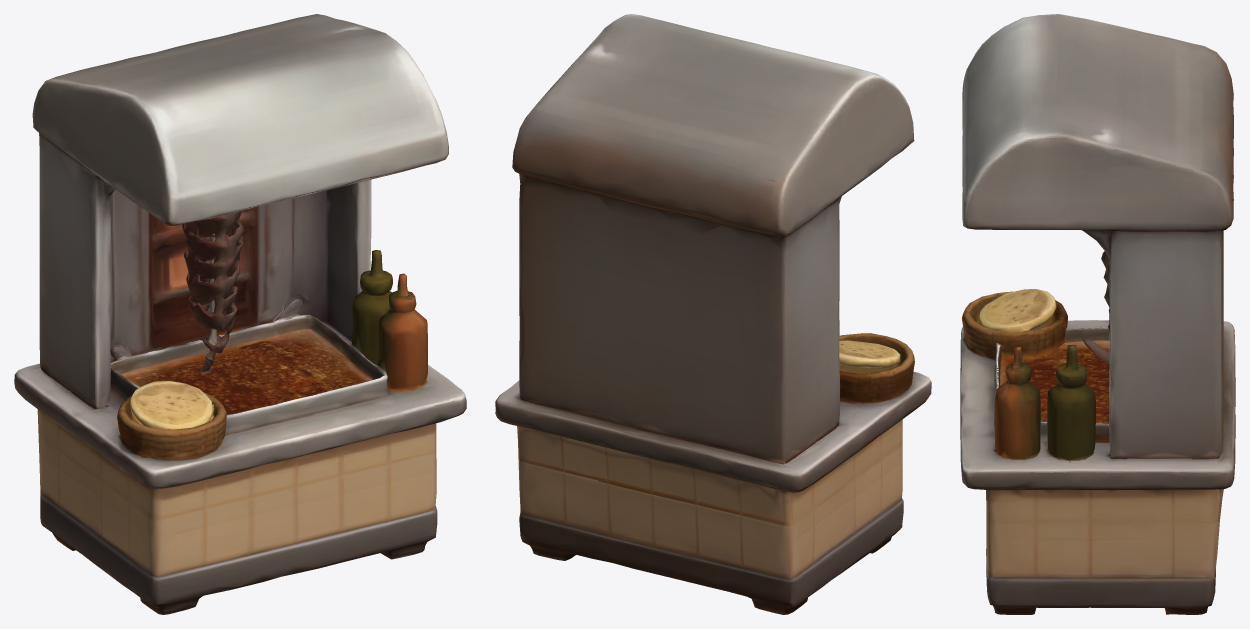
File: bb_shawarma.glb
3 renders of one model, left to right at view 1: azimuth 30°, elevation 25°; view 2: azimuth 150°, elevation 25°; view 3: azimuth 270°, elevation 25°, orthographic. The views are drawn at different scales.
Bounding box in the file's own units: 0.6805 × 1 × 0.5205.
1 material, 1 textured.
